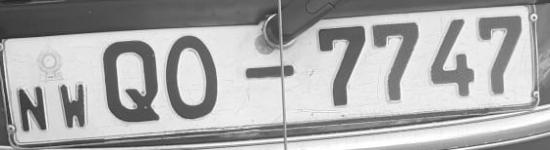-: (242, 61, 298, 85)
4: (422, 16, 476, 102)
7: (312, 23, 370, 112), (370, 20, 424, 106), (478, 11, 526, 99)
N: (12, 85, 55, 136)
O: (164, 32, 227, 125)
Q: (98, 35, 164, 127)
W: (58, 80, 93, 133)
